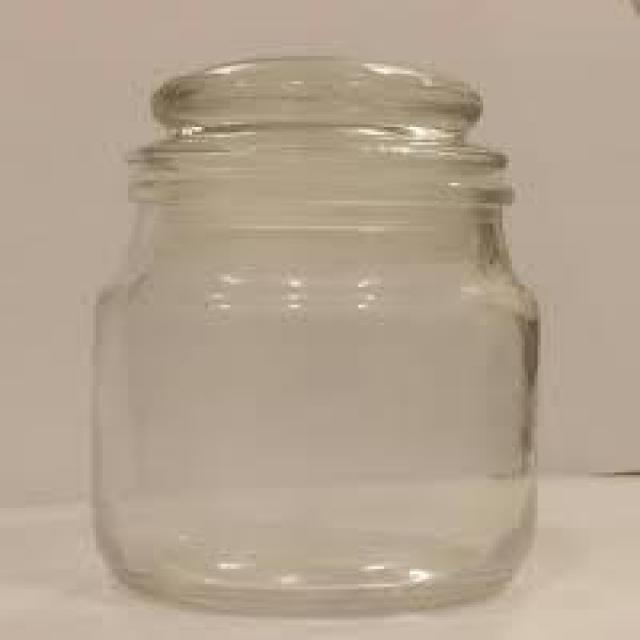glass: (85, 52, 549, 626)
